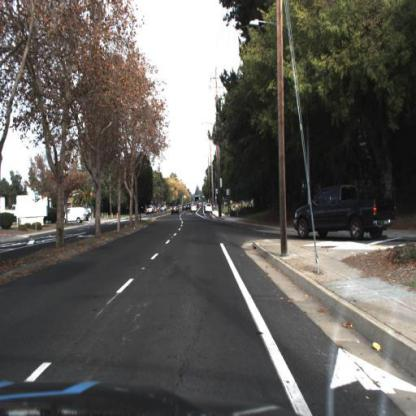car: (293, 185, 395, 239), (59, 205, 90, 224)
truck: (65, 206, 90, 227)
